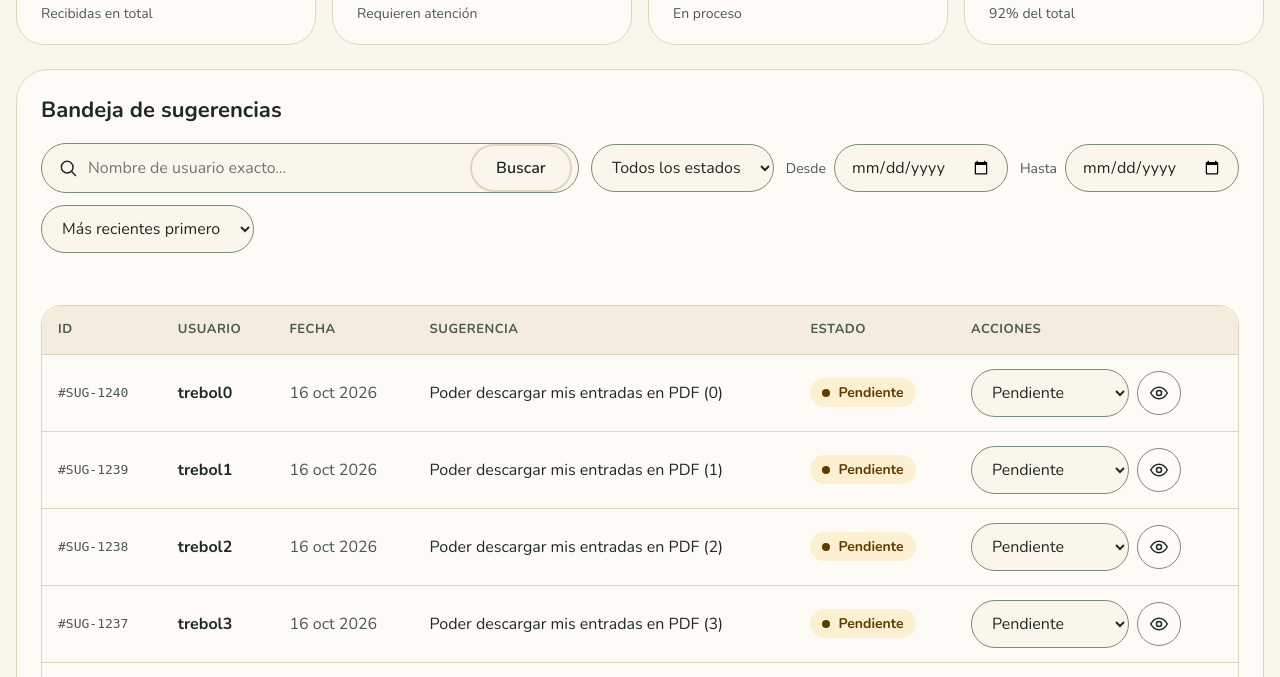
it: PanelSugerencias cuando la fuente también resume y permite cambiar el estado (HU-11) › si no se pueden guardar los cambios, la ventana sigue abierta con un aviso amable
(page scrolled)
Expected: the text "trebol0" is shown, [162,354,273,431]
Click the button named "Ver la sugerencia SUG-1240".
click(1159, 392)  # box [1137,370,1181,414]
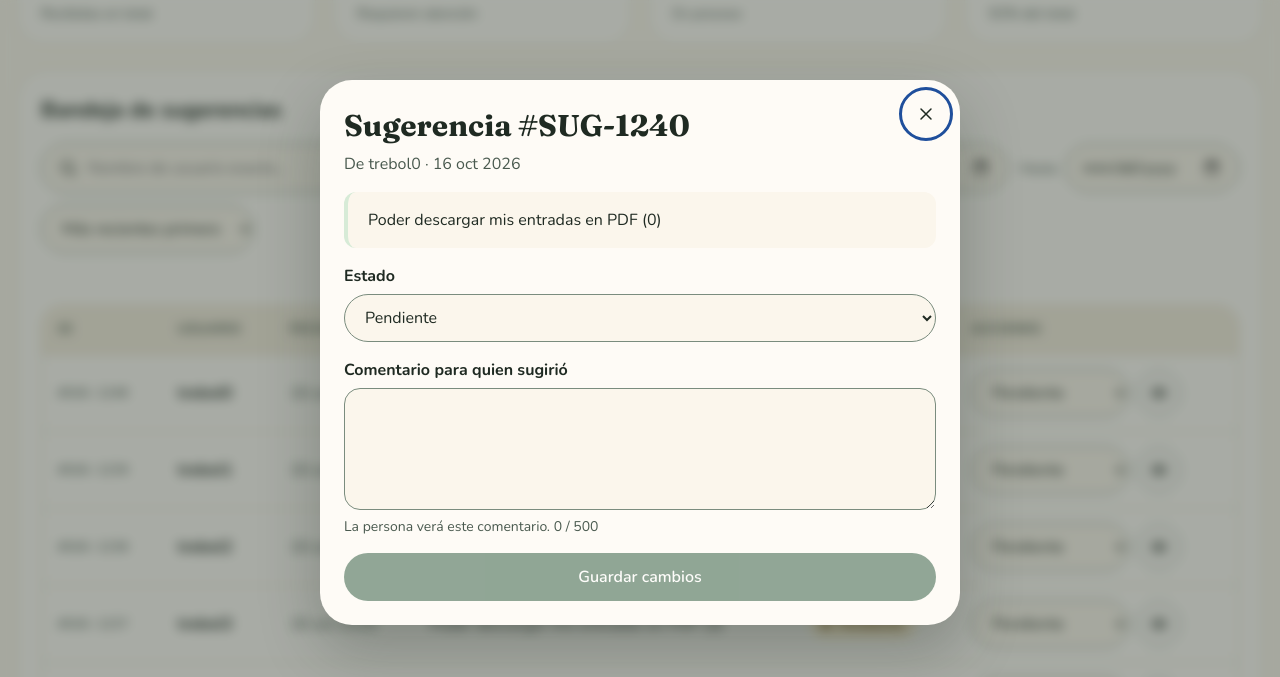
Select "Rechazada" in the dropdown labelled "Estado" at (640, 318), box [344,294,936,342]
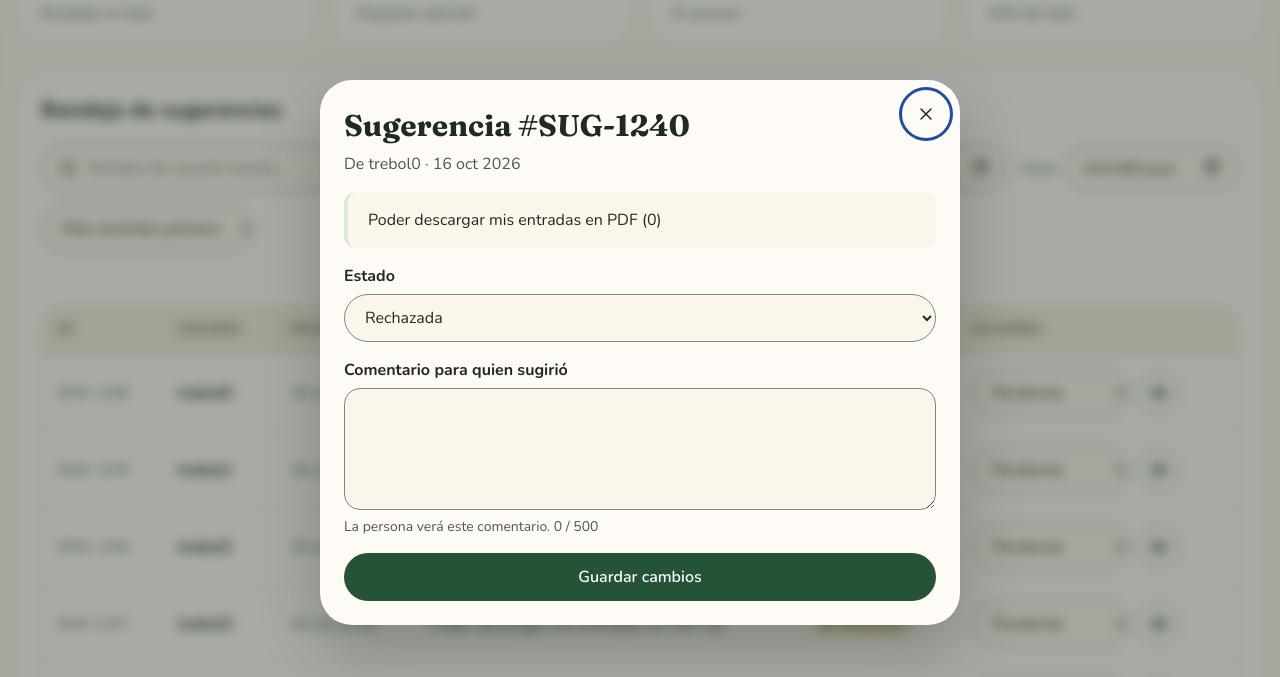
Click the button "Guardar cambios".
click(640, 576)  # box [344,552,936,600]
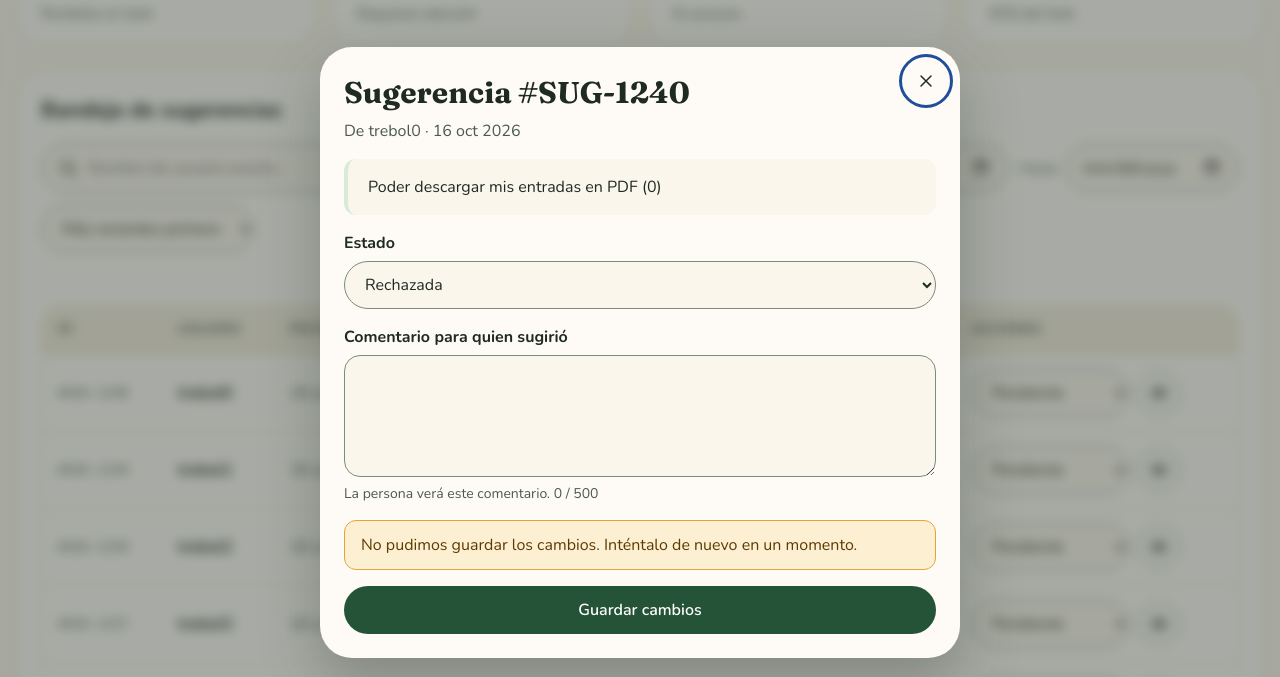
Expected: the message shows "No pudimos guardar los cambios", [361,534,857,556]
